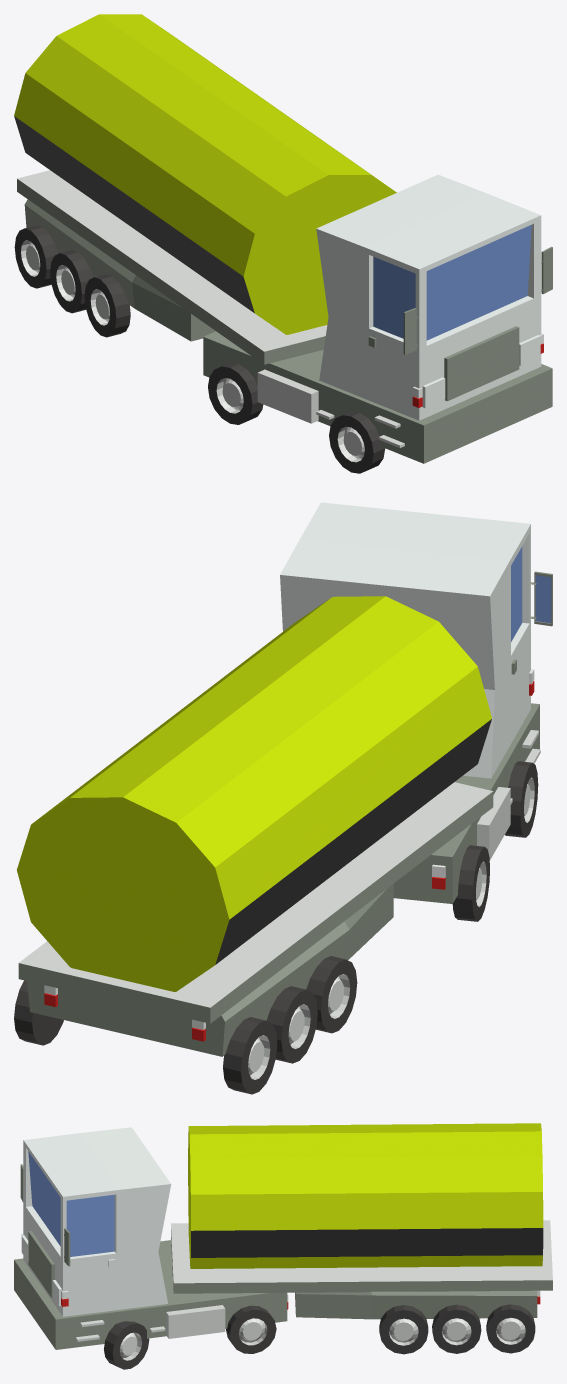
The model's file is fuel-truck.glb.
3 views of the same model, one above another, from view 1: azimuth 30°, elevation 25°; view 2: azimuth 150°, elevation 25°; view 3: azimuth 270°, elevation 25° (orthographic). The views are drawn at different scales.
Visible parts, largest first — view 1: Cube_Body_0, Cube_Tire.004_0; view 2: Cube_Body_0, Cube_Tire.004_0; view 3: Cube_Body_0, Cube_Tire.004_0.
Boxes of the visible parts, x1,y1,x2,y2 form: Cube_Body_0: (14,14,552,463); Cube_Tire.004_0: (14,116,385,473); Cube_Body_0: (17,502,552,1079); Cube_Tire.004_0: (14,719,538,1094); Cube_Body_0: (14,1123,552,1360); Cube_Tire.004_0: (104,1228,543,1369).
Bounding box in the file's own units: 2.68 × 2.45 × 6.42.
Materials: 2 (2 with a texture image).
